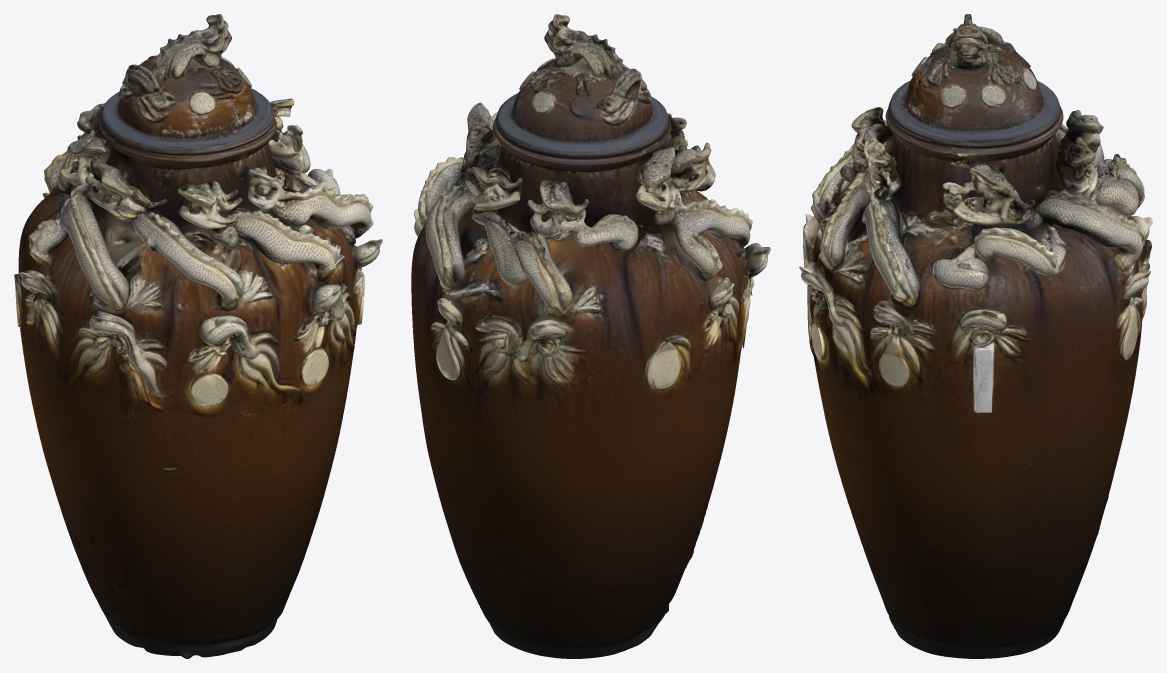
Rendered from tempayan-naga.glb.
3 renders of one model, left to right at view 1: azimuth 30°, elevation 25°; view 2: azimuth 150°, elevation 25°; view 3: azimuth 270°, elevation 25°, orthographic.
Parts seen in each view (by area): view 1: Object_4; view 2: Object_4; view 3: Object_4.
Boxes of the visible parts, bbox=[...] form: Object_4: bbox=[14, 14, 382, 658]; Object_4: bbox=[411, 14, 770, 658]; Object_4: bbox=[799, 14, 1152, 658].
Size of the model in its own units: 0.6432 by 1.16 by 0.611.
Materials: 1 (1 with a texture image).
